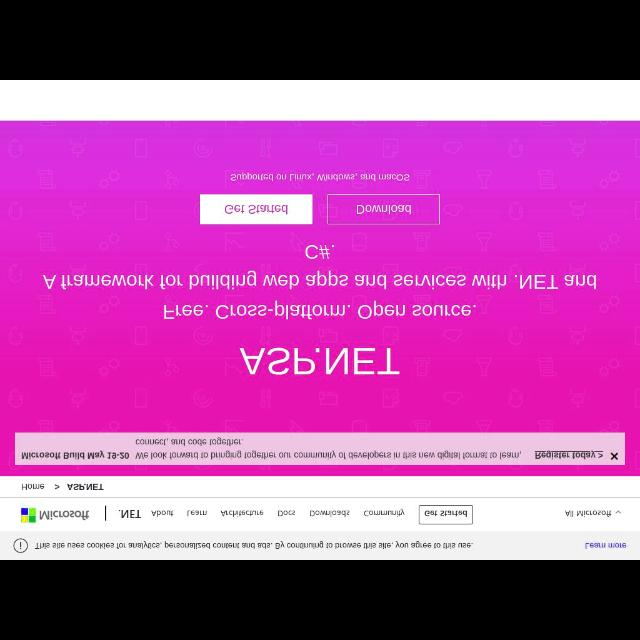icon: (609, 452, 619, 460), (53, 482, 61, 491), (598, 450, 604, 460), (616, 509, 622, 515)
image: (21, 507, 90, 525)
link: (535, 451, 597, 462)
multitab: (108, 502, 416, 528)
spinner: (561, 503, 627, 522)
text: (44, 269, 602, 291), (135, 438, 522, 460), (160, 300, 480, 322), (236, 341, 402, 382), (230, 172, 410, 182), (23, 452, 129, 460), (302, 242, 338, 262), (565, 508, 613, 518), (66, 481, 104, 492), (310, 508, 350, 518), (364, 509, 406, 518), (220, 509, 264, 517), (118, 509, 142, 521), (19, 482, 46, 492), (151, 508, 175, 518), (188, 508, 208, 518), (278, 509, 296, 517)
textbutton: (198, 194, 314, 224), (327, 195, 441, 225), (418, 504, 474, 524)
